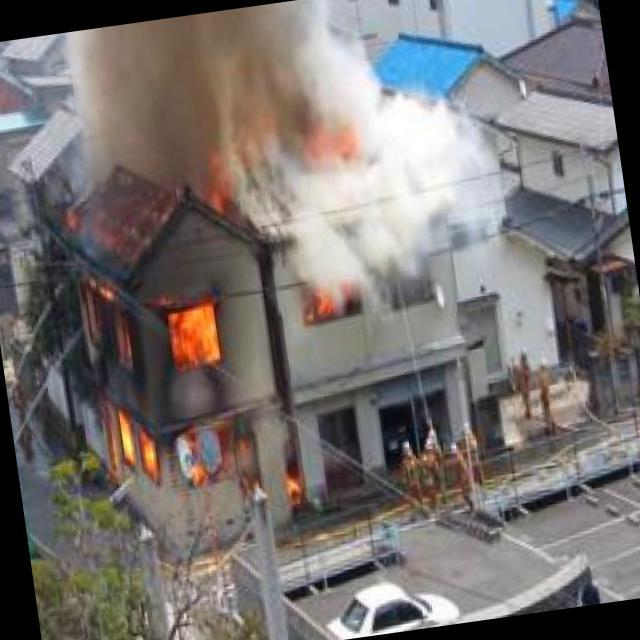Fire: (66, 239, 314, 546), (305, 276, 377, 328)
